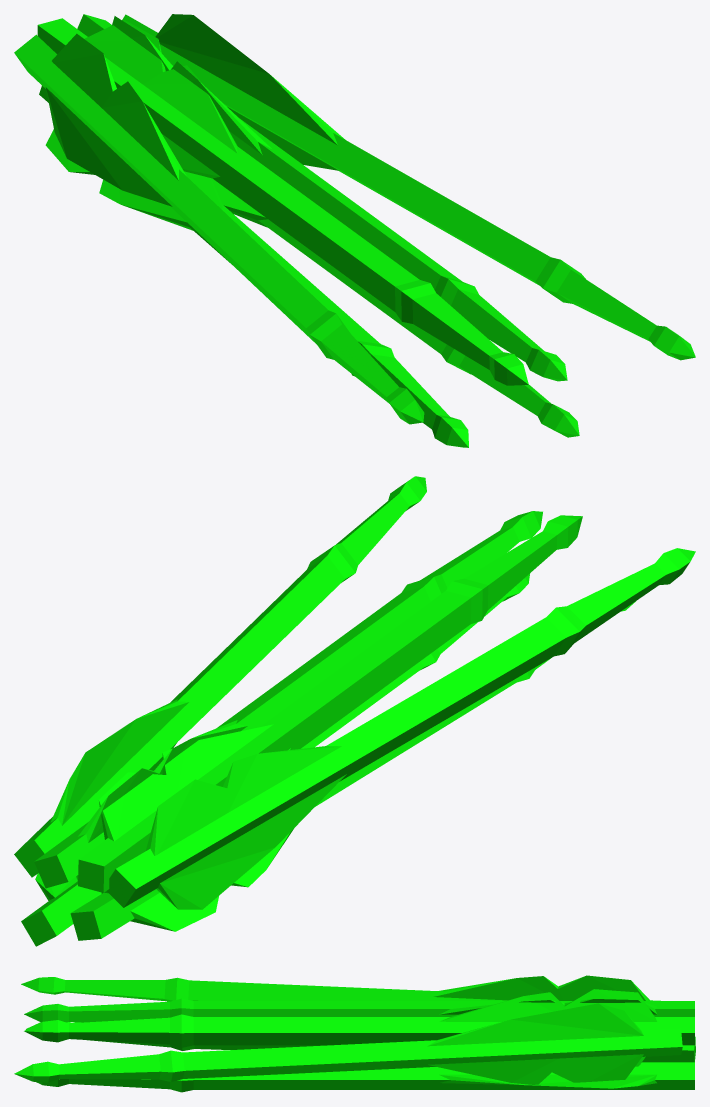
The model's file is SM_Bolts_Pile_C_Fantasy.fbx.
The picture shows the model from 3 angles, top to bottom: view 1: azimuth 30°, elevation 25°; view 2: azimuth 150°, elevation 25°; view 3: azimuth 270°, elevation 25°; orthographic projection. The views are drawn at different scales.
Visible parts, largest first — view 1: bolts-pile-c-fantasy; view 2: bolts-pile-c-fantasy; view 3: bolts-pile-c-fantasy.
Part boxes in pixels (x1,y1,x2,y2): bolts-pile-c-fantasy: (14,14,695,447); bolts-pile-c-fantasy: (14,476,695,946); bolts-pile-c-fantasy: (14,975,695,1092).
Bounding box in the file's own units: 0.0969 × 0.0443 × 0.2851.
